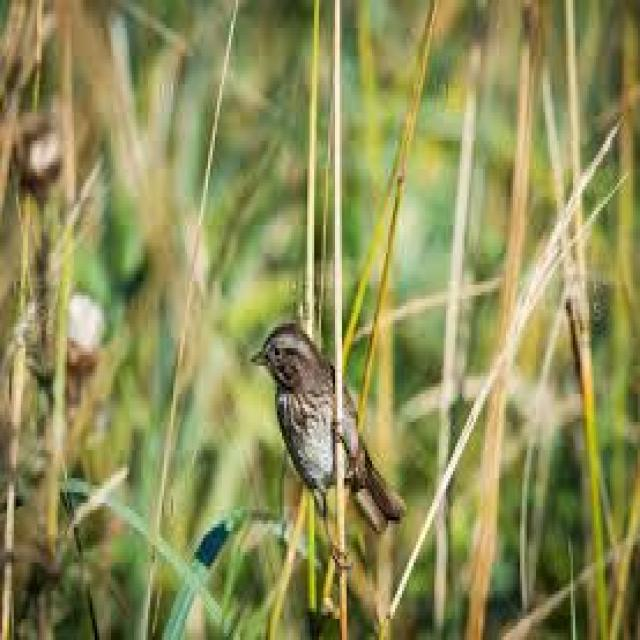bird: (252, 314, 402, 551)
